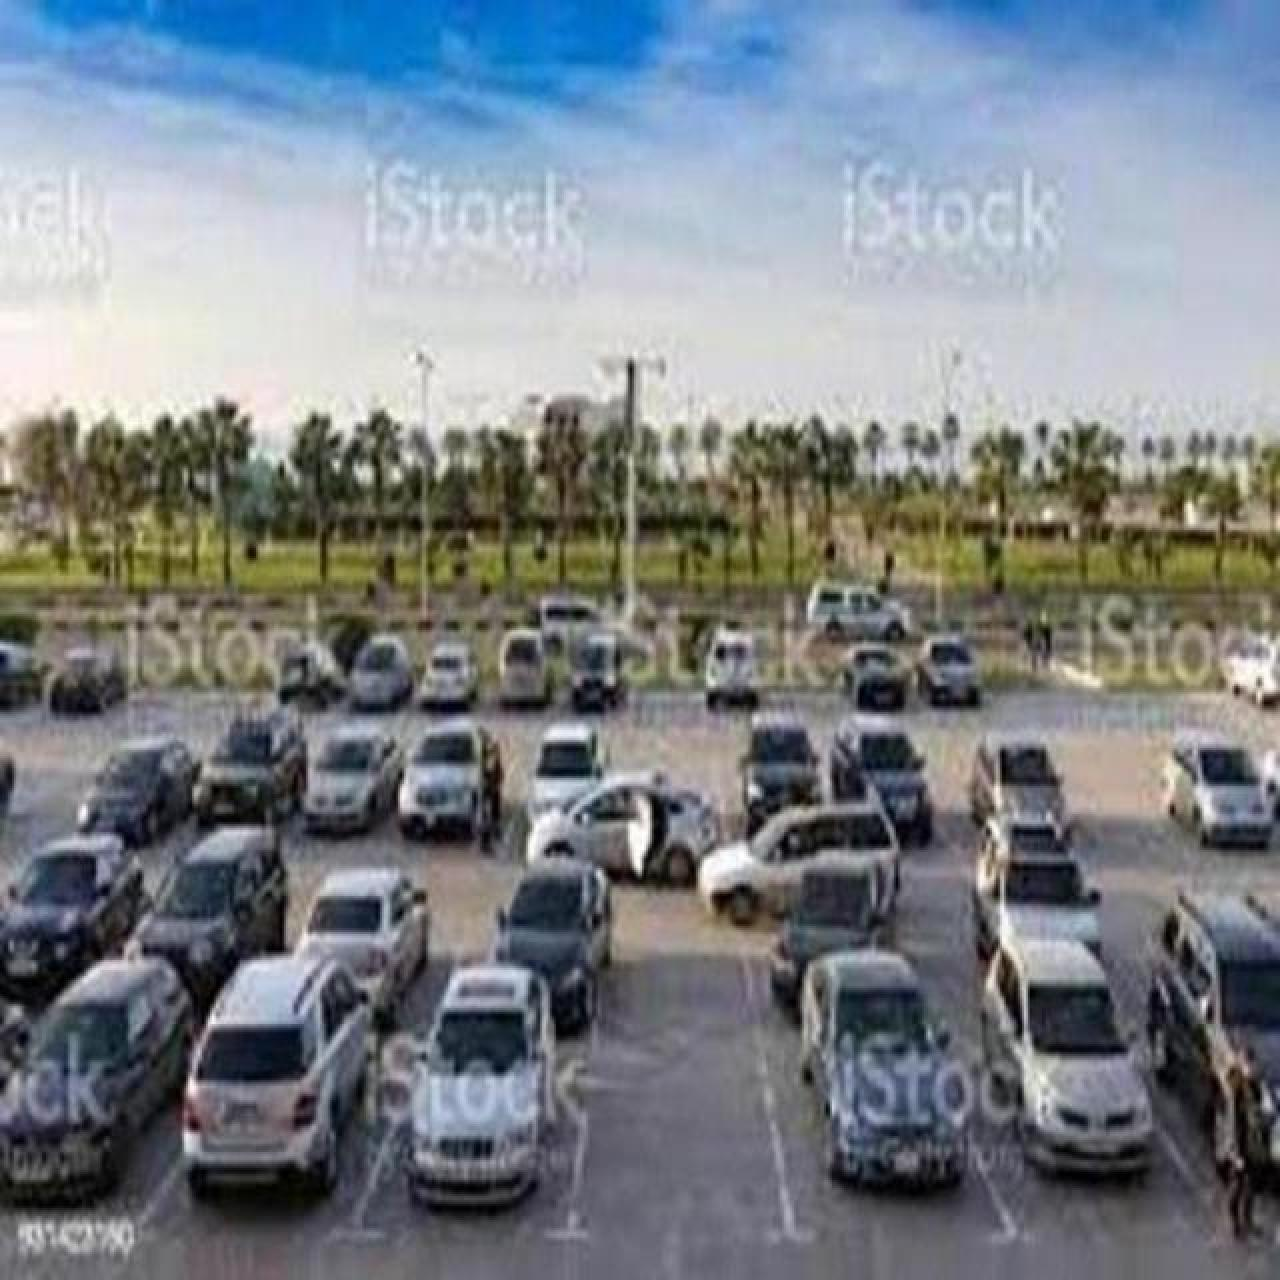car: (0, 952, 195, 1206), (178, 948, 374, 1198), (976, 934, 1156, 1182), (798, 946, 971, 1192), (1142, 886, 1278, 1190), (402, 962, 558, 1210), (122, 822, 288, 1006), (694, 799, 903, 924), (0, 832, 147, 1000), (290, 864, 430, 1026), (524, 768, 720, 884), (488, 855, 614, 1034), (765, 850, 898, 1008), (968, 822, 1102, 958), (74, 731, 200, 846), (1158, 728, 1278, 847), (190, 704, 306, 826), (828, 712, 934, 842), (394, 719, 504, 840), (300, 720, 404, 836), (968, 734, 1070, 835), (736, 712, 822, 828), (526, 720, 606, 822), (0, 956, 30, 1190), (804, 580, 912, 642), (45, 646, 125, 714), (346, 632, 414, 710), (702, 620, 758, 710), (836, 642, 910, 710), (493, 626, 554, 708), (914, 634, 982, 706), (274, 640, 343, 708), (1218, 629, 1278, 708), (568, 632, 626, 712), (416, 640, 481, 710), (530, 594, 602, 651), (0, 636, 45, 710), (0, 836, 14, 988), (1260, 742, 1278, 830)
